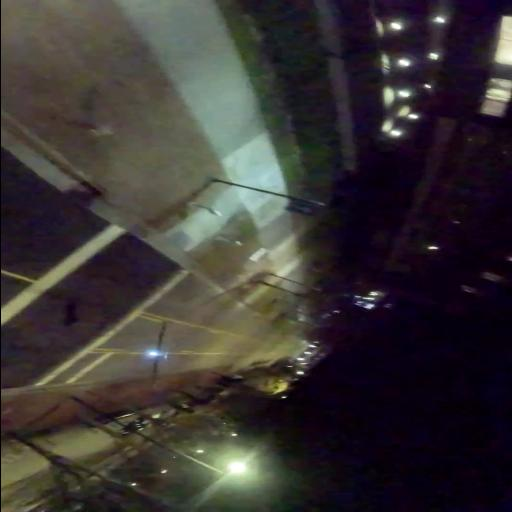uav: (144, 316, 174, 390)
